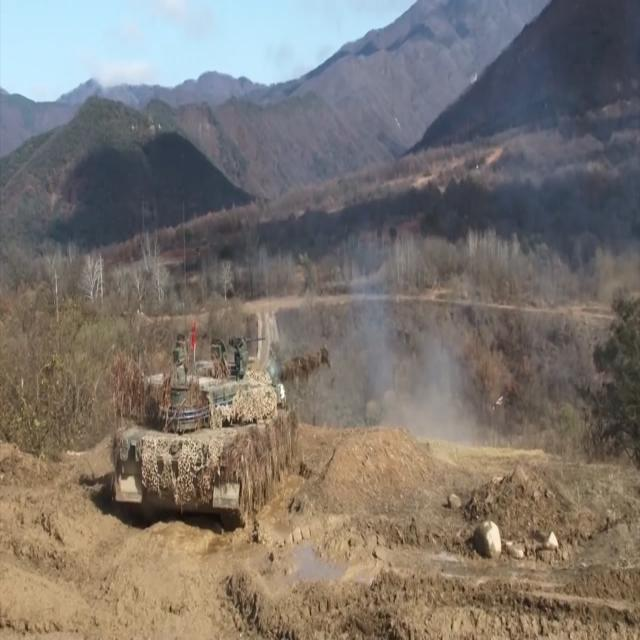korea tank: (108, 324, 330, 530)
